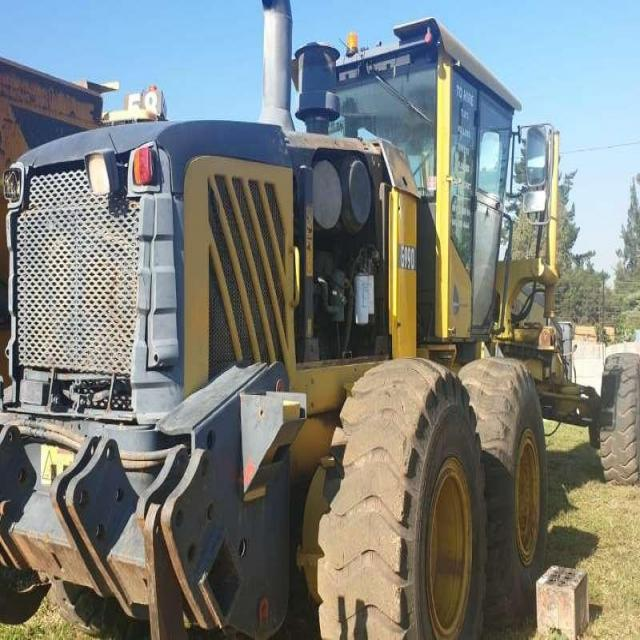Grader: (3, 6, 639, 639)
